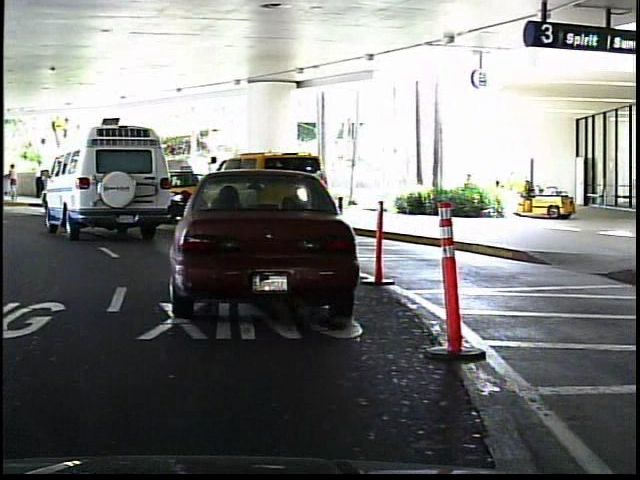person: (202, 153, 226, 213), (6, 162, 23, 203), (32, 159, 48, 202)
